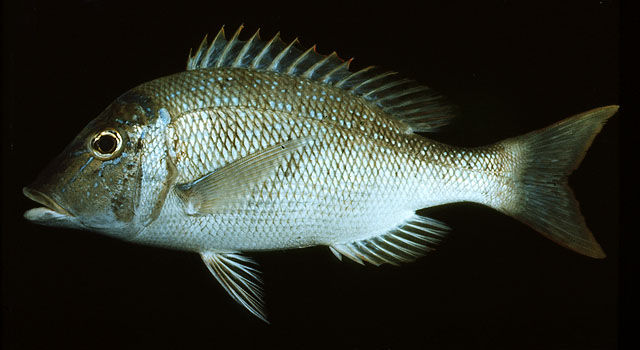fish: (21, 25, 621, 325)
